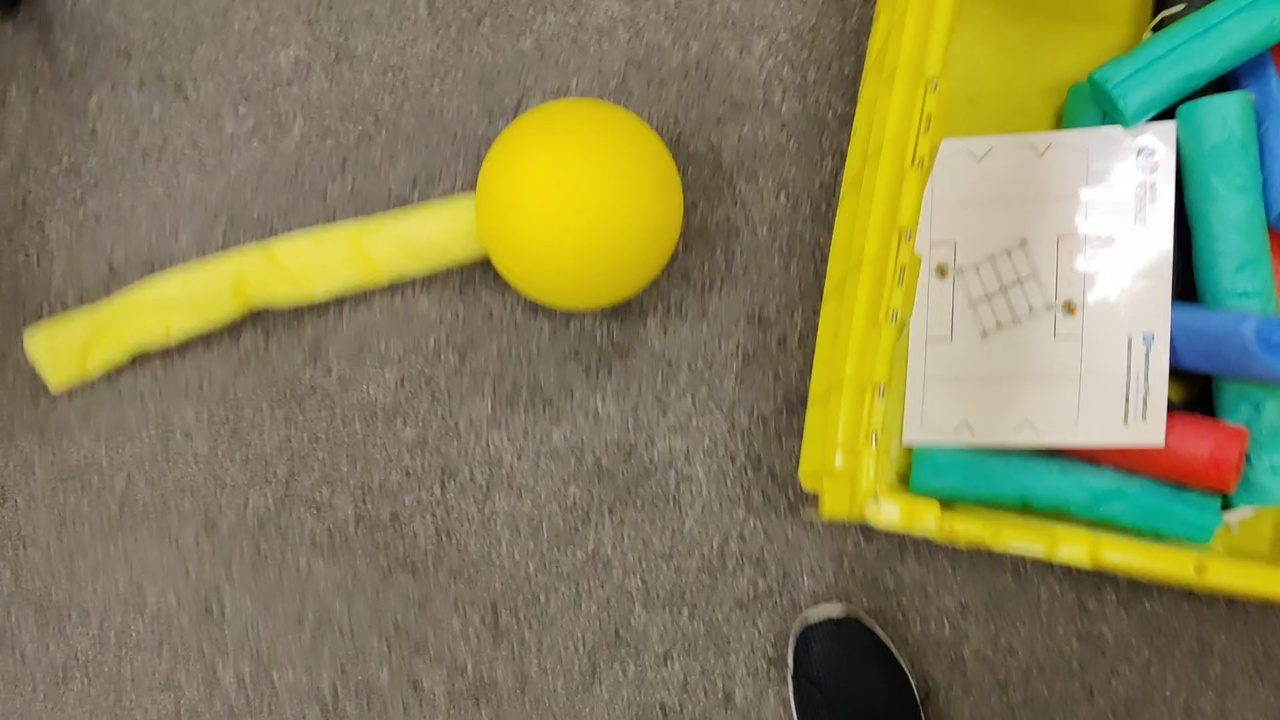Ball: (475, 97, 677, 312)
